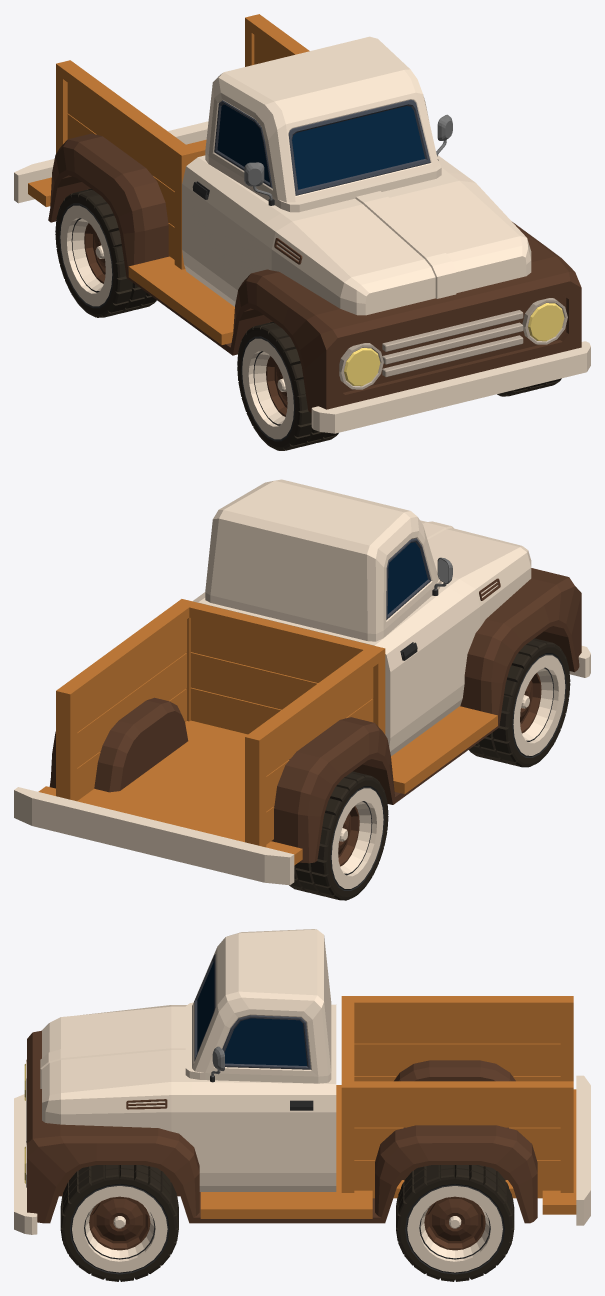
File: Pickup_Truck_2.fbx
The picture shows the model from 3 angles, top to bottom: view 1: azimuth 30°, elevation 25°; view 2: azimuth 150°, elevation 25°; view 3: azimuth 270°, elevation 25°; orthographic projection. The views are drawn at different scales.
Parts seen in each view (by area): view 1: Mini_Pickup_Truck_01, Mini_Pickup_Truck_Wheel_01_RR, Mini_Pickup_Truck_Wheel_01_FR; view 2: Mini_Pickup_Truck_01, Mini_Pickup_Truck_Wheel_01_RR, Mini_Pickup_Truck_Wheel_01_FR; view 3: Mini_Pickup_Truck_01, Mini_Pickup_Truck_Wheel_01_FL, Mini_Pickup_Truck_Wheel_01_RL.
Part boxes in pixels (left/top/right/bottom): Mini_Pickup_Truck_01: left=14, top=14, right=590, bottom=433; Mini_Pickup_Truck_Wheel_01_RR: left=55, top=189, right=156, bottom=317; Mini_Pickup_Truck_Wheel_01_FR: left=237, top=322, right=338, bottom=450; Mini_Pickup_Truck_01: left=14, top=479, right=590, bottom=885; Mini_Pickup_Truck_Wheel_01_RR: left=289, top=771, right=388, bottom=900; Mini_Pickup_Truck_Wheel_01_FR: left=469, top=638, right=570, bottom=767; Mini_Pickup_Truck_01: left=14, top=929, right=590, bottom=1234; Mini_Pickup_Truck_Wheel_01_FL: left=60, top=1165, right=178, bottom=1281; Mini_Pickup_Truck_Wheel_01_RL: left=396, top=1165, right=514, bottom=1281.
Bounding box in the file's own units: 114 × 111 × 224.
